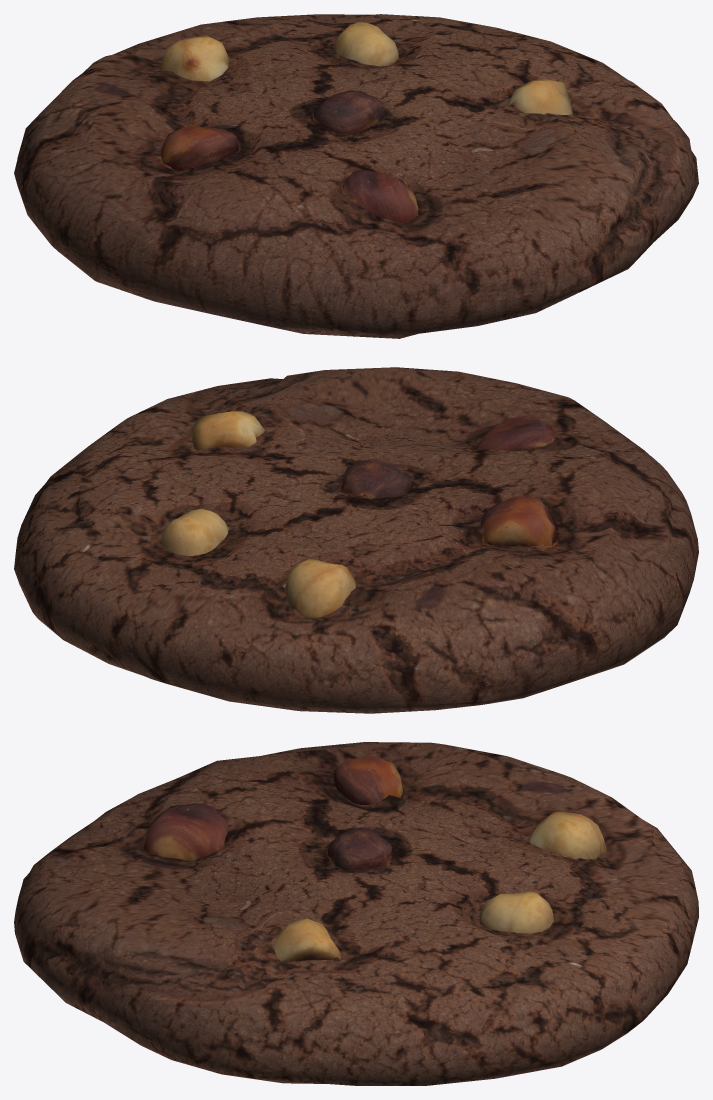
File: chocolate_cookie_game_ready__2k_pbr.glb
The picture shows the model from 3 angles, top to bottom: view 1: azimuth 30°, elevation 25°; view 2: azimuth 150°, elevation 25°; view 3: azimuth 270°, elevation 25°; orthographic projection. The views are drawn at different scales.
Visible parts, largest first — view 1: Chocolate Cookie; view 2: Chocolate Cookie; view 3: Chocolate Cookie.
Part boxes in pixels (x1,y1,x2,y2): Chocolate Cookie: (14,14,698,338); Chocolate Cookie: (14,367,698,713); Chocolate Cookie: (14,742,698,1085).
Bounding box in the file's own units: 0.1177 × 0.0229 × 0.1177.
1 material, 1 textured.
